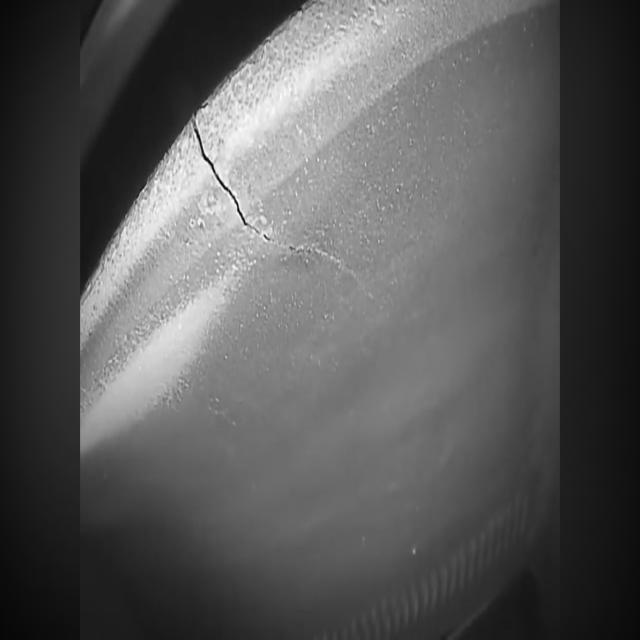crack: (190, 111, 345, 272), (193, 114, 262, 243), (271, 231, 350, 274)
turbine_blade: (79, 0, 562, 639)
